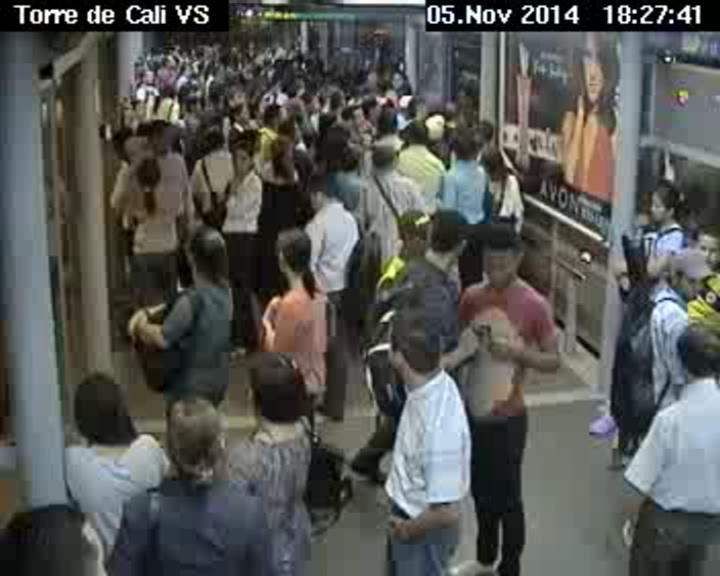person: (1, 503, 117, 576), (158, 388, 232, 493), (232, 348, 309, 439), (59, 369, 139, 443), (388, 308, 448, 386), (669, 320, 720, 393), (472, 215, 525, 283), (423, 206, 473, 278), (267, 225, 319, 285), (179, 222, 229, 284), (661, 239, 707, 305), (641, 175, 685, 228), (396, 201, 439, 254), (688, 219, 720, 271), (444, 125, 482, 167), (479, 140, 515, 184), (267, 131, 299, 179), (367, 140, 401, 179), (305, 172, 339, 209), (403, 117, 431, 153), (228, 136, 254, 172), (134, 153, 160, 189), (260, 104, 289, 131), (202, 125, 228, 154), (314, 110, 345, 133), (340, 104, 366, 131), (374, 108, 400, 131), (223, 81, 247, 103), (182, 94, 203, 116), (227, 105, 250, 125), (389, 69, 411, 89), (302, 89, 319, 113), (136, 68, 155, 86), (158, 80, 175, 98)
